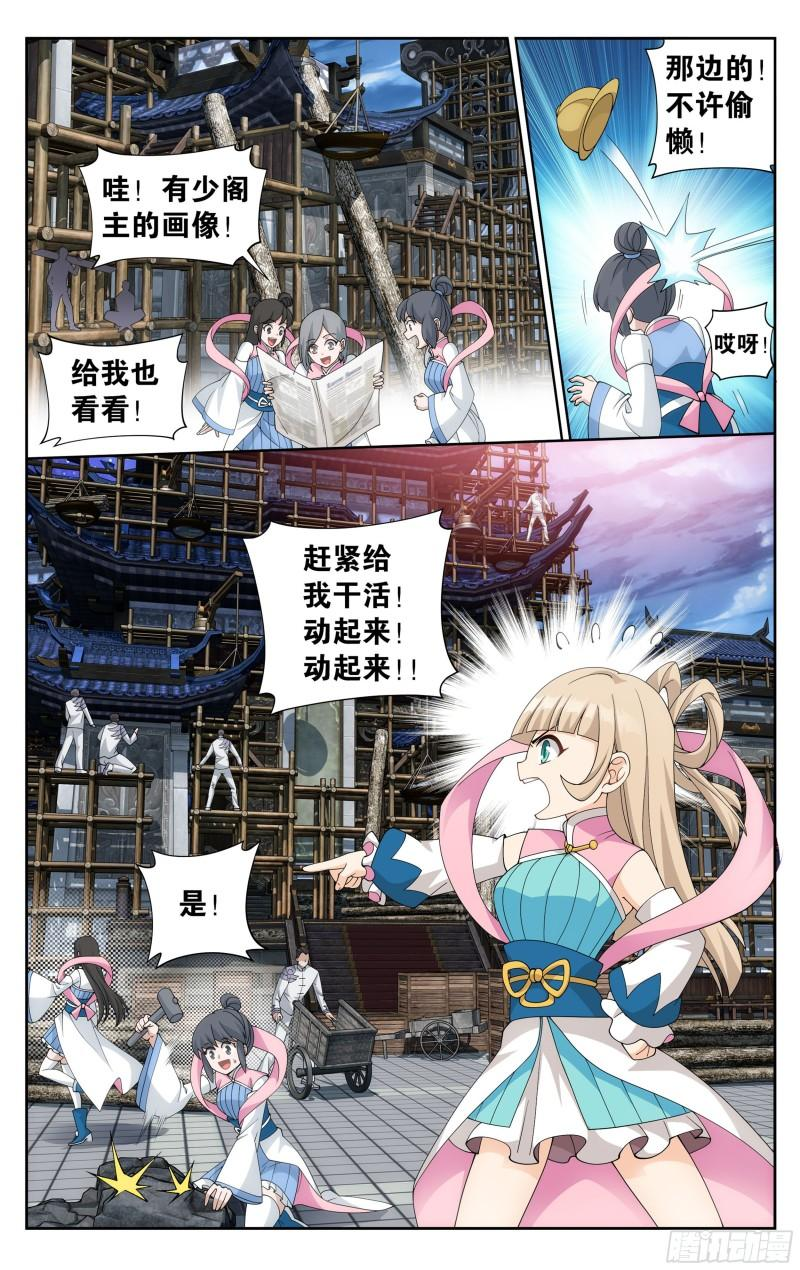boxBomb: (231, 505, 465, 715), (78, 140, 270, 275), (639, 32, 783, 179), (33, 329, 198, 443), (132, 841, 270, 964), (699, 296, 780, 380)
minBox: (18, 425, 783, 1234), (18, 29, 573, 465), (507, 26, 783, 446)
